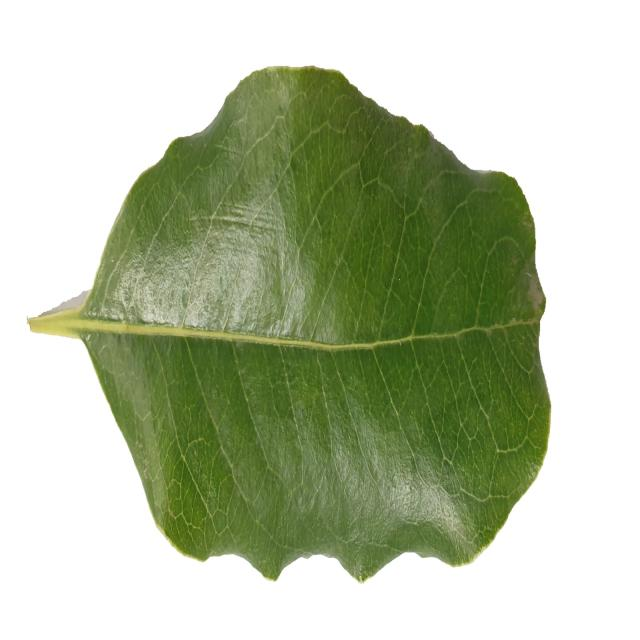Medicinal-Sandalwood: (30, 66, 551, 584)
